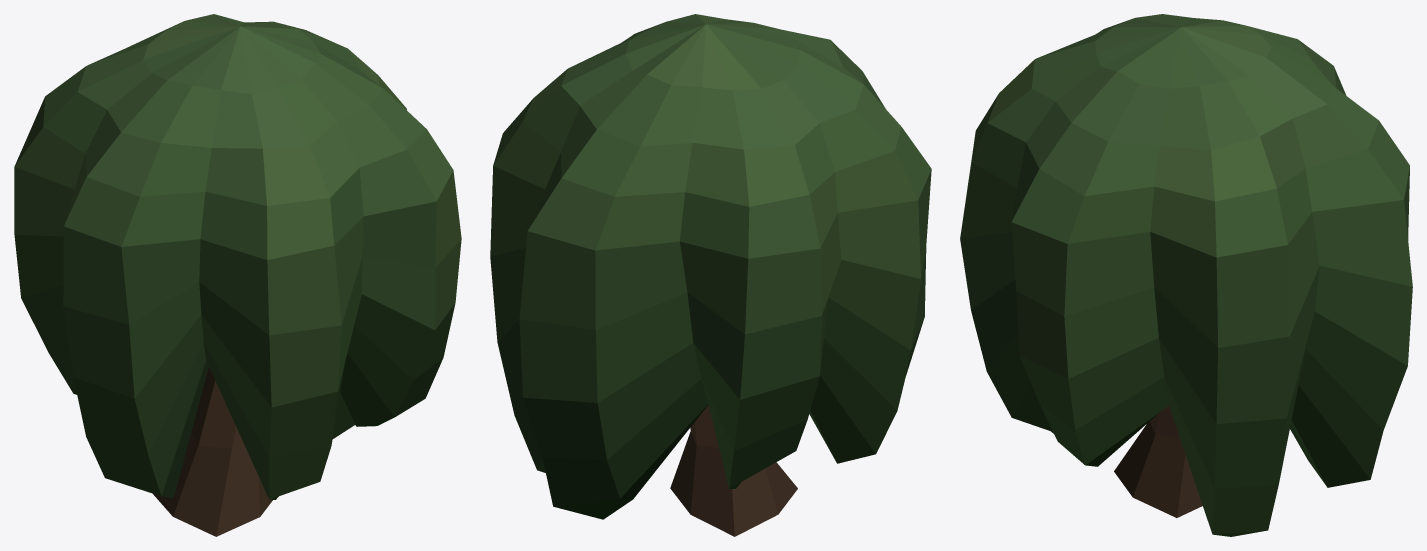
File: Willow.glb
The picture shows the model from 3 angles, left to right: view 1: azimuth 30°, elevation 25°; view 2: azimuth 150°, elevation 25°; view 3: azimuth 270°, elevation 25°; orthographic projection.
Visible parts, largest first — view 1: Willow; view 2: Willow; view 3: Willow.
Part boxes in pixels (bbox=[...]): Willow: bbox=[14, 14, 461, 536]; Willow: bbox=[490, 14, 931, 536]; Willow: bbox=[960, 14, 1412, 536].
Size of the model in its own units: 4.14 by 4.87 by 4.23.
